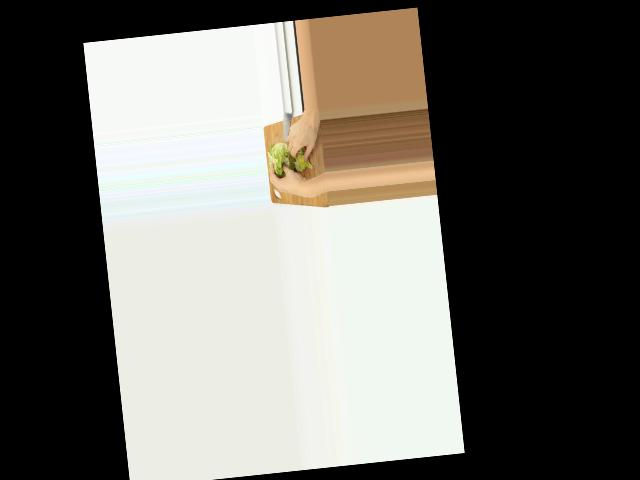lettuce: (267, 141, 294, 176)
